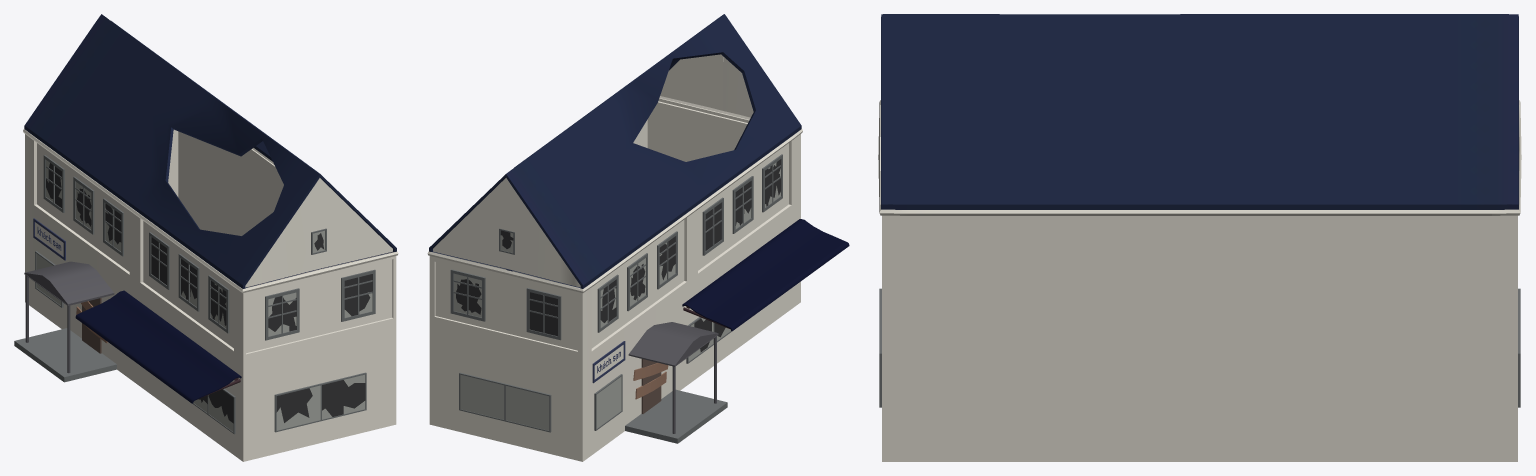
Rendered from house1(hotel).fbx.
3 renders of one model, left to right at view 1: azimuth 30°, elevation 25°; view 2: azimuth 150°, elevation 25°; view 3: azimuth 270°, elevation 25°, orthographic. The views are drawn at different scales.
Parts seen in each view (by area): view 1: Cube.001, shop.003, black, Cube.012, Cube.007, Cube.060, Cube.061, Cube.017, hotelLetter, Cube.011; view 2: Cube.001, shop.003, Cube.012, Cube.060, Cube.007, black, Cube.017, hotelLetter, Cube.011; view 3: Cube.001, Cube.017.
Boxes of the visible parts, x1,y1,x2,y2 form: Cube.001: (23, 14, 398, 461); shop.003: (75, 290, 241, 403); black: (46, 163, 372, 423); Cube.012: (14, 261, 116, 382); Cube.007: (43, 155, 375, 340); Cube.060: (36, 160, 372, 336); Cube.061: (193, 374, 365, 431); Cube.017: (35, 251, 366, 434); hotelLetter: (33, 218, 65, 260); Cube.011: (82, 298, 101, 353); Cube.001: (427, 14, 802, 461); shop.003: (682, 219, 849, 331); Cube.012: (625, 322, 727, 443); Cube.060: (454, 162, 780, 430); Cube.007: (450, 154, 782, 340); black: (456, 159, 780, 352); Cube.017: (459, 317, 731, 432); hotelLetter: (592, 341, 625, 383); Cube.011: (641, 359, 661, 413); Cube.001: (878, 14, 1521, 461); Cube.017: (879, 288, 1520, 407).
Size of the model in its own units: 476 by 590 by 874.
Materials: 1 (1 with a texture image).
